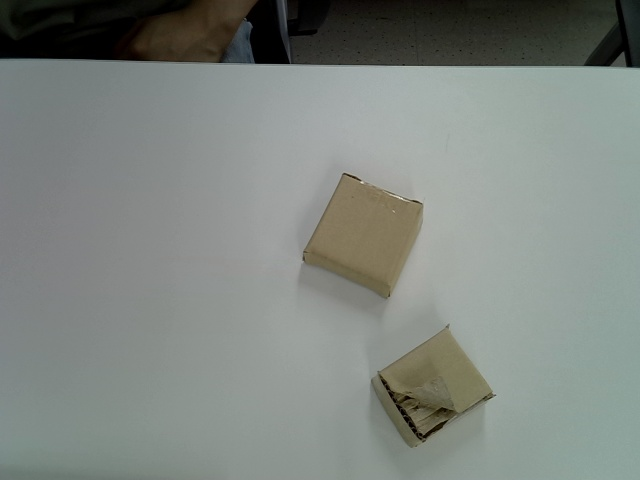defect: (370, 324, 496, 448)
normal: (301, 174, 424, 300)
